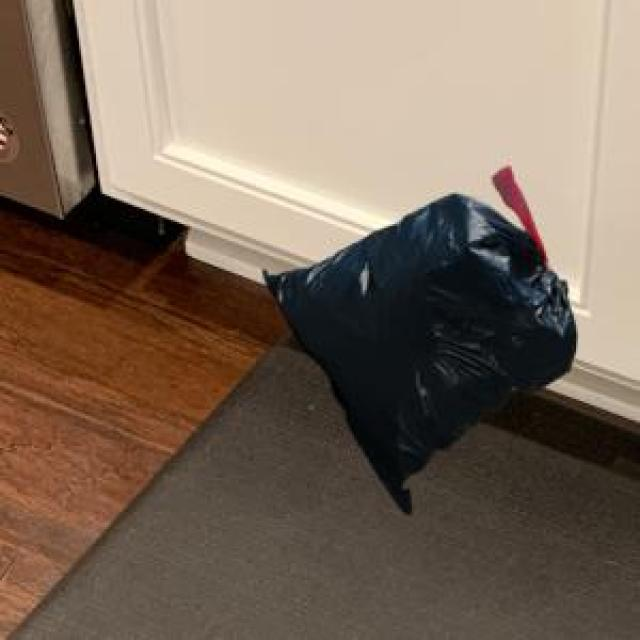Trashbag: (250, 191, 582, 518)
